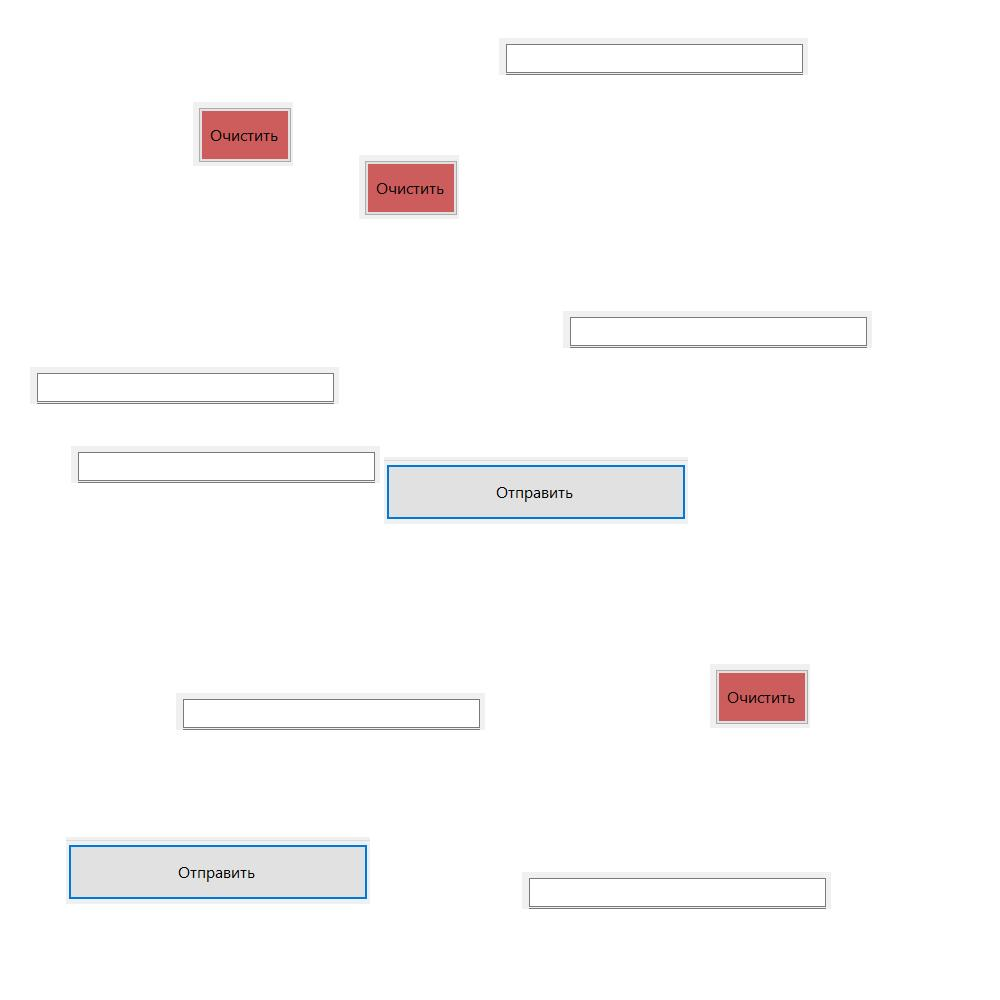Button: (384, 457, 688, 524), (66, 837, 370, 904), (359, 155, 459, 219), (710, 664, 810, 728), (193, 102, 293, 166)
EditText-: (563, 311, 872, 348), (176, 693, 485, 730), (522, 872, 831, 909), (30, 367, 339, 404), (499, 38, 808, 75), (71, 446, 380, 483)
